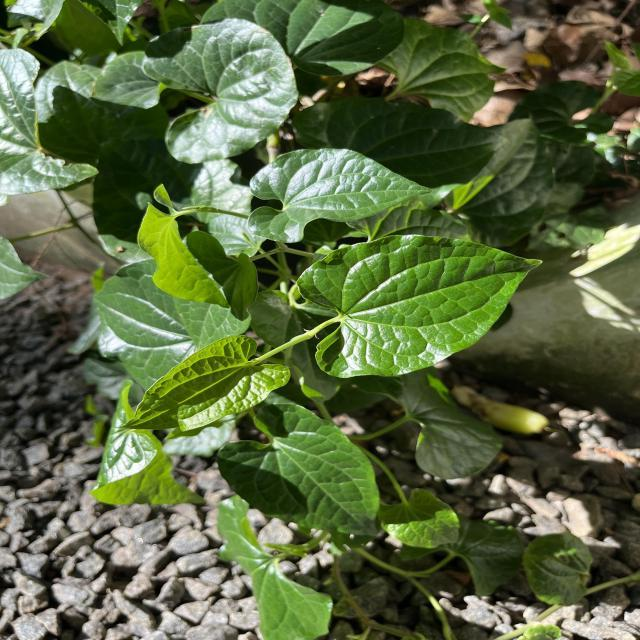Piper longum: (294, 232, 546, 381), (111, 332, 292, 436), (243, 146, 434, 244)
